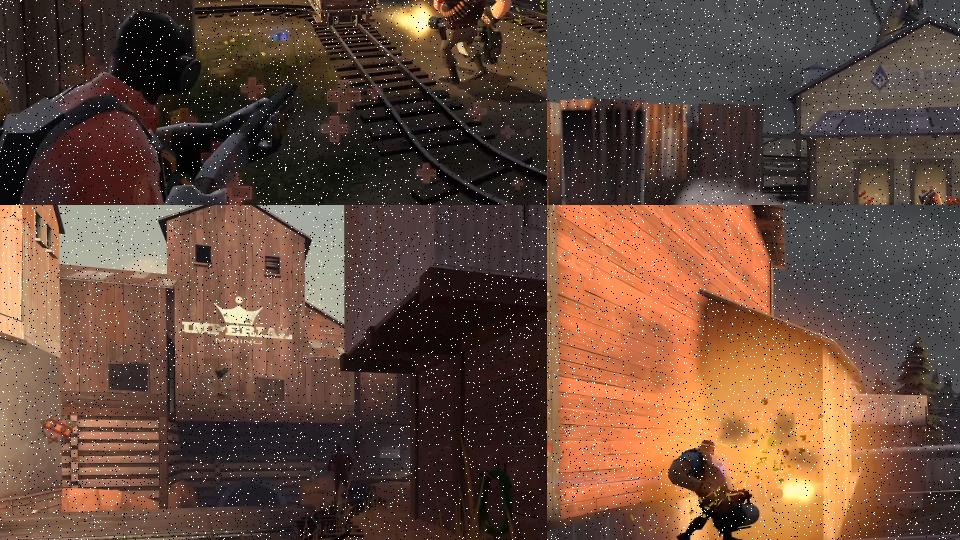Enemy: (0, 14, 284, 205), (665, 437, 761, 540), (429, 0, 512, 74), (325, 436, 357, 513), (919, 185, 956, 205)
